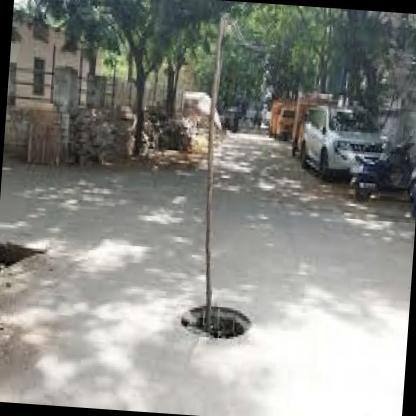manholes: (164, 265, 268, 368)
